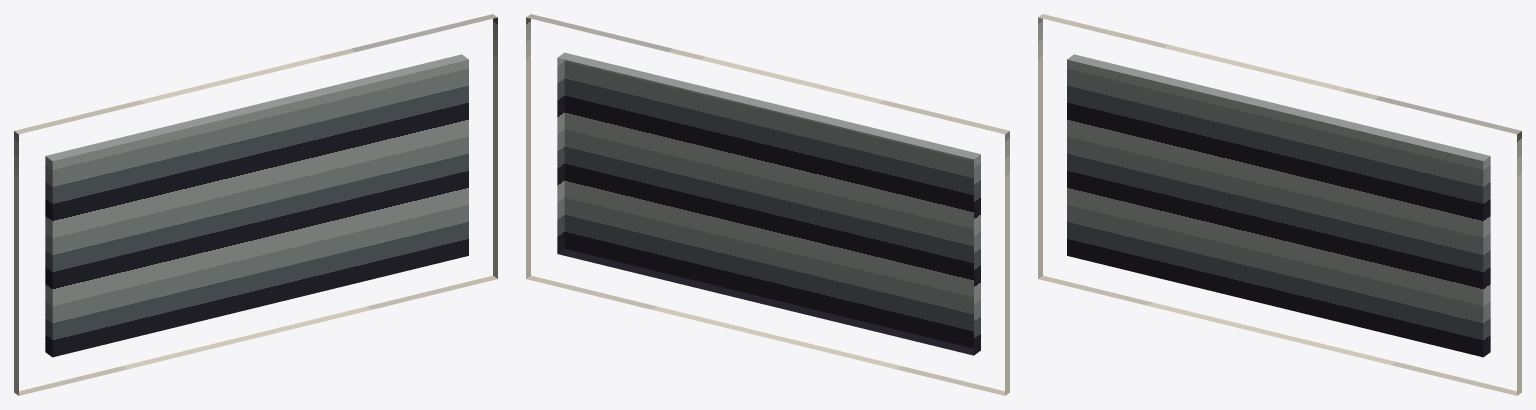
The model's file is RES_Ext_CrawlVent.obj.
The picture shows the model from 3 angles, left to right: view 1: azimuth 30°, elevation 25°; view 2: azimuth 150°, elevation 25°; view 3: azimuth 330°, elevation 25°; orthographic projection.
Visible parts, largest first — view 1: RES_Ext_CrawlVent_Mesh_M_Town_VentGrille, RES_Ext_CrawlVent_Mesh_M_Arch_TrimPainted; view 2: RES_Ext_CrawlVent_Mesh_M_Town_VentGrille, RES_Ext_CrawlVent_Mesh_M_Arch_TrimPainted; view 3: RES_Ext_CrawlVent_Mesh_M_Town_VentGrille, RES_Ext_CrawlVent_Mesh_M_Arch_TrimPainted.
Boxes of the visible parts, x1,y1,x2,y2 form: RES_Ext_CrawlVent_Mesh_M_Town_VentGrille: [45, 54, 468, 357]; RES_Ext_CrawlVent_Mesh_M_Arch_TrimPainted: [14, 14, 497, 395]; RES_Ext_CrawlVent_Mesh_M_Town_VentGrille: [557, 52, 980, 355]; RES_Ext_CrawlVent_Mesh_M_Arch_TrimPainted: [526, 14, 1009, 395]; RES_Ext_CrawlVent_Mesh_M_Town_VentGrille: [1067, 54, 1490, 357]; RES_Ext_CrawlVent_Mesh_M_Arch_TrimPainted: [1038, 14, 1521, 395].
Bounding box in the file's own units: 0.46 × 0.24 × 0.012.
2 materials, 2 textured.
